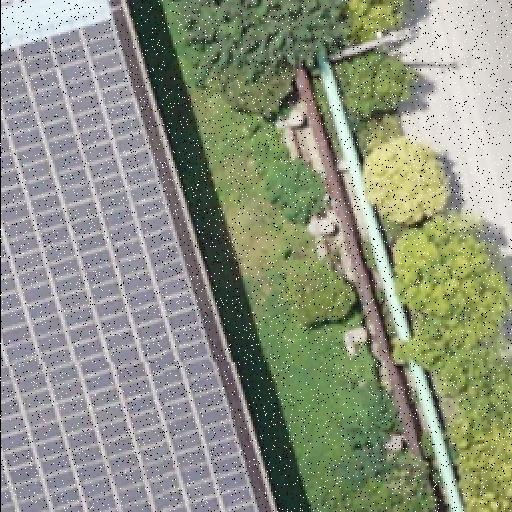solar-panel: (0, 20, 256, 512)
